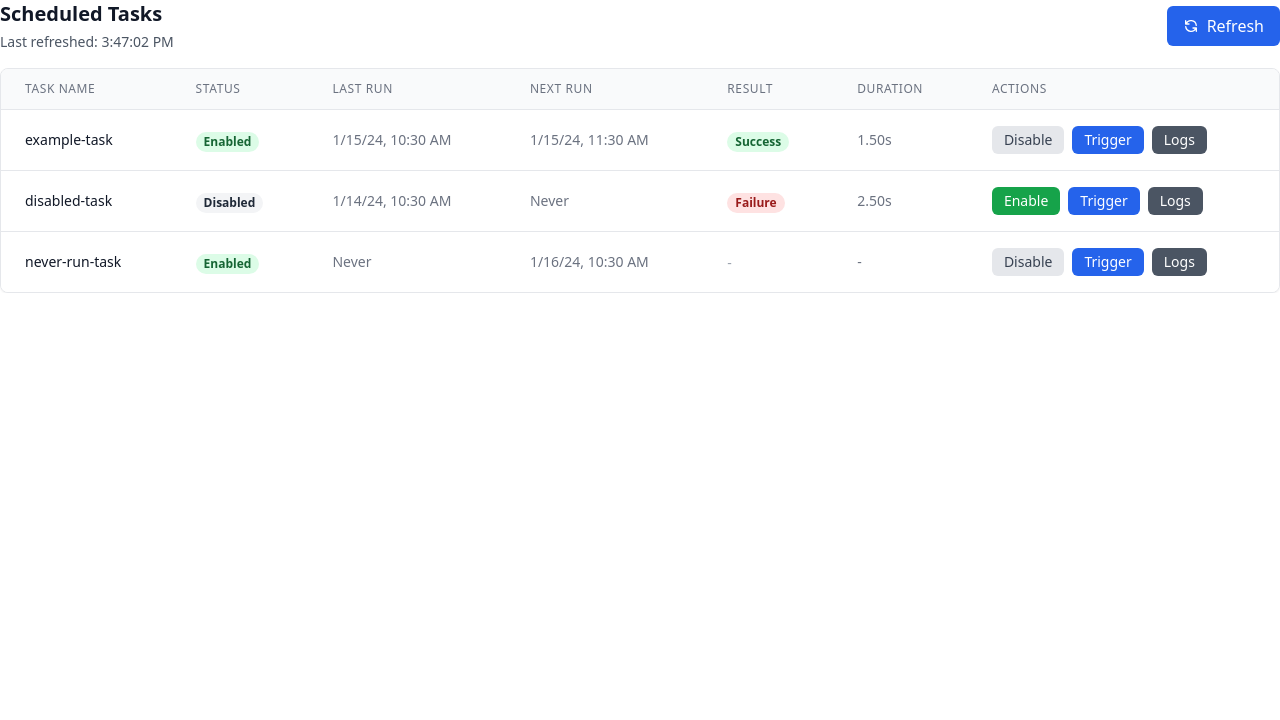
ScheduledTasksTab › View logs modal opening and display › should show error state when execution history fetch fails
The width and height of the screenshot is (1280, 720).
Check: the text "example-task" is shown, box [25,130,113,149]
Click the button "Logs" in the row of "example-task".
click(1179, 140)  # box [1152,126,1207,154]
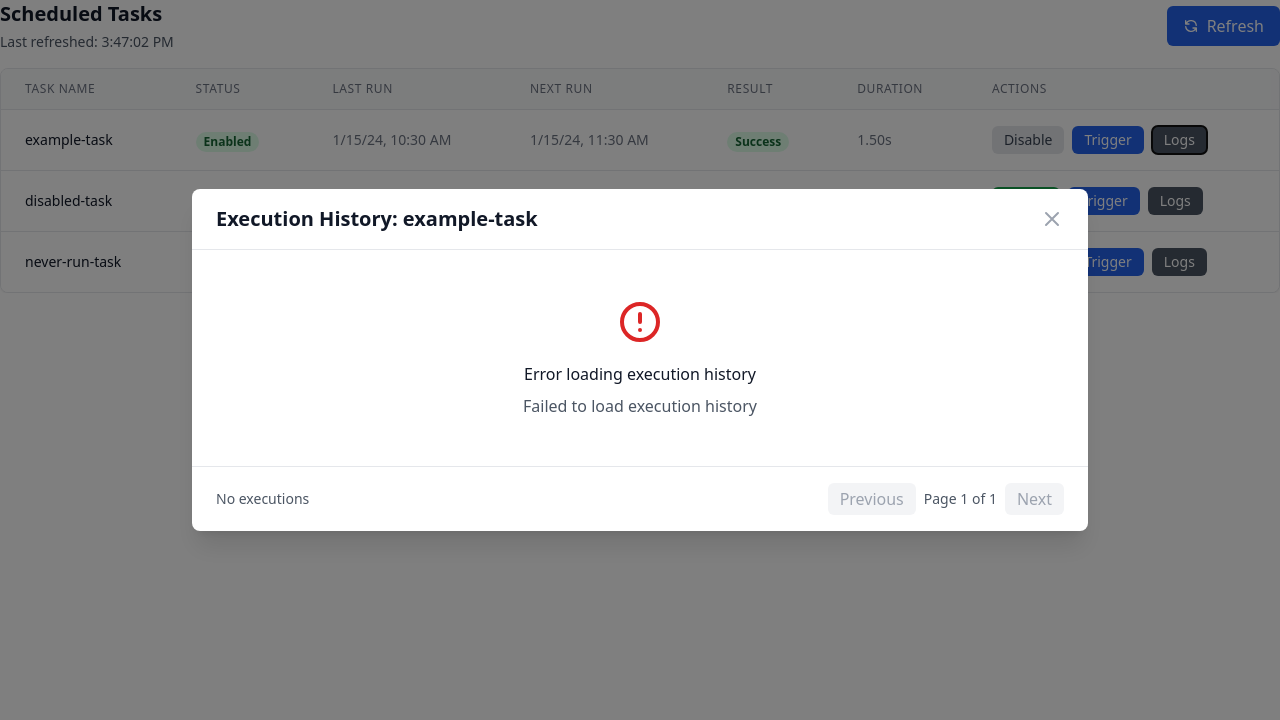
Check: the text "Error loading execution history" is shown, box [524,363,756,385]
Check: the text "Failed to load execution history" is shown, box [523,395,757,417]
